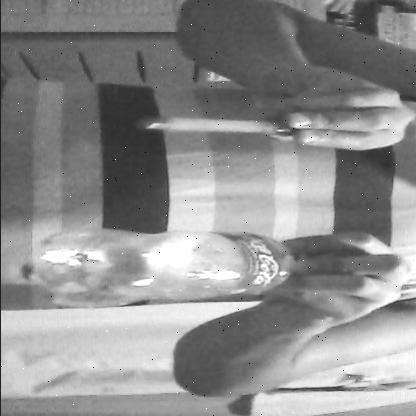Plastic Bottle: (8, 223, 362, 316)
